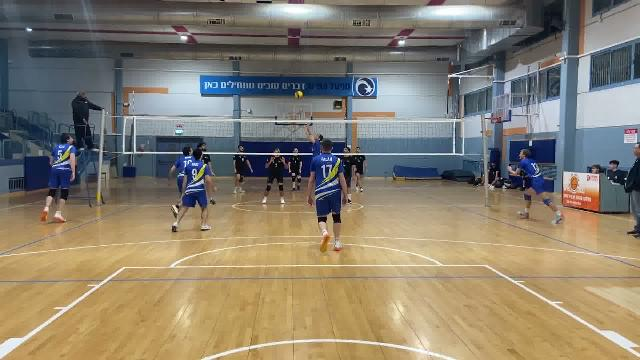ball: (292, 91, 306, 100)
